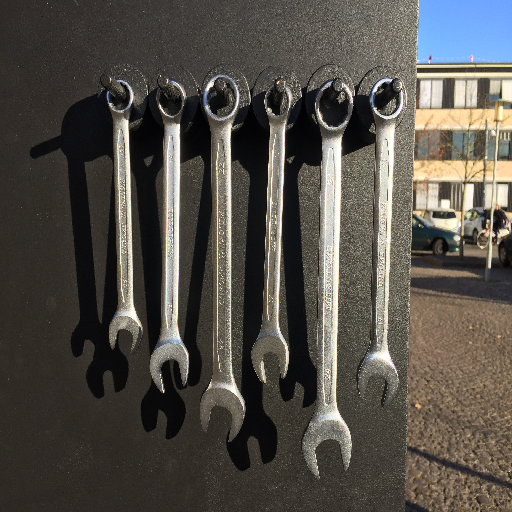bottom: (300, 413, 352, 483), (198, 379, 246, 444), (356, 349, 401, 408), (146, 337, 191, 395), (249, 331, 292, 383), (106, 309, 145, 355)
top: (312, 77, 356, 135), (201, 72, 242, 126), (366, 75, 407, 125), (154, 79, 188, 123), (261, 82, 295, 123), (103, 77, 137, 115)
